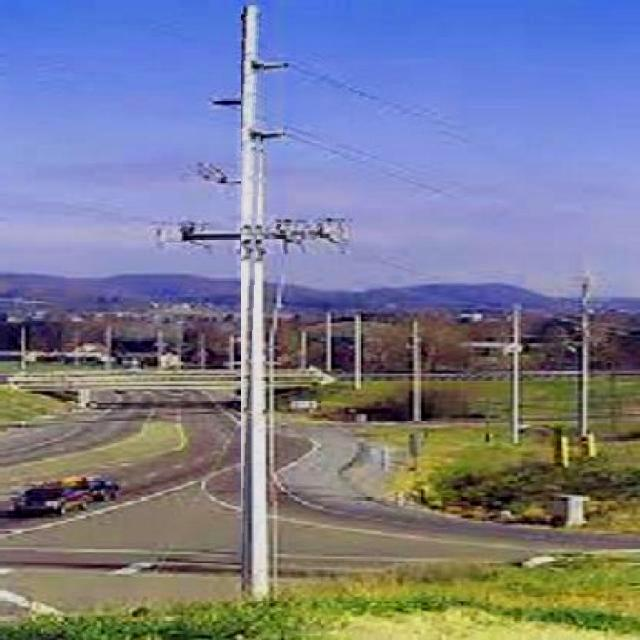crossarm: (149, 212, 354, 251)
pole: (241, 6, 262, 600)
wire: (283, 59, 460, 133)
